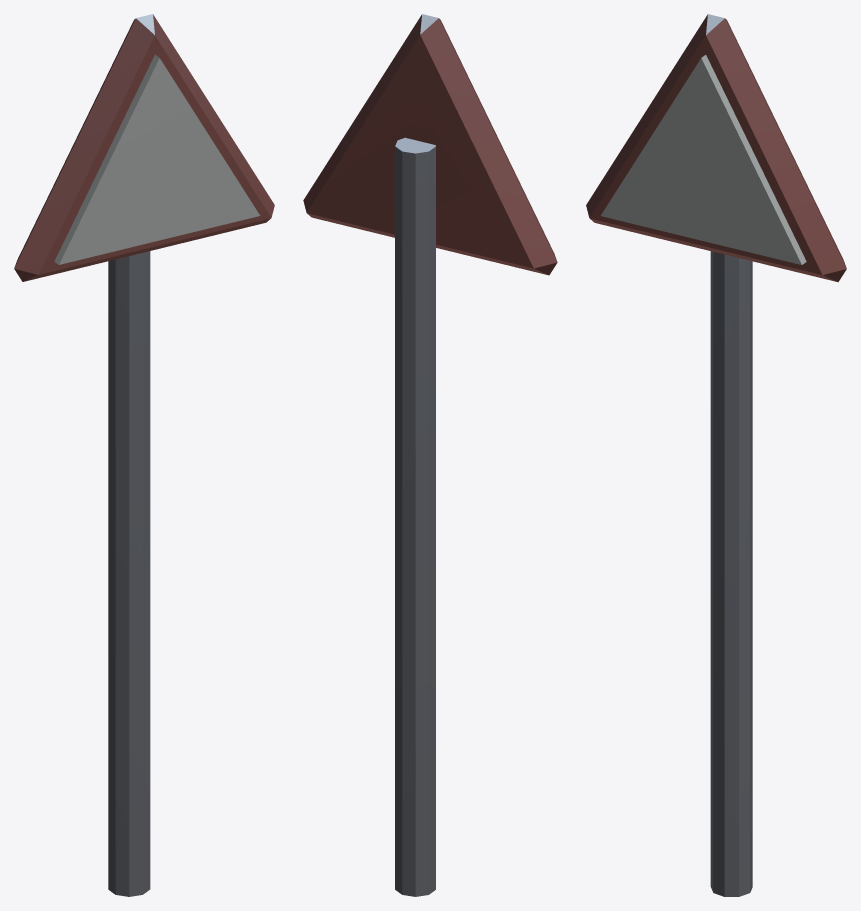
File: sign_panel_b.glb
3 renders of one model, left to right at view 1: azimuth 30°, elevation 25°; view 2: azimuth 150°, elevation 25°; view 3: azimuth 330°, elevation 25°, orthographic. The views are drawn at different scales.
Parts seen in each view (by area): view 1: Prop, Panel; view 2: Prop; view 3: Prop, Panel.
Part boxes in pixels (left/top/right/bottom): Prop: left=14, top=14, right=274, bottom=896; Panel: left=54, top=54, right=260, bottom=264; Prop: left=303, top=14, right=557, bottom=896; Prop: left=586, top=14, right=846, bottom=896; Panel: left=600, top=55, right=806, bottom=264.
Size of the model in its own units: 0.8962 by 2.9 by 0.244.
